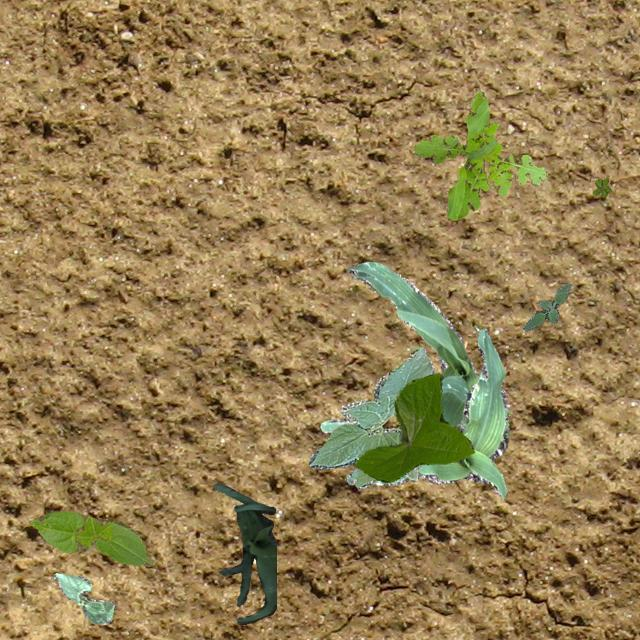crop: (320, 328, 508, 500), (346, 260, 478, 428), (307, 346, 433, 488), (354, 372, 474, 482), (212, 482, 276, 624), (29, 510, 152, 564), (53, 572, 114, 624)
weed: (412, 90, 546, 218), (522, 282, 570, 330), (592, 176, 610, 196)
